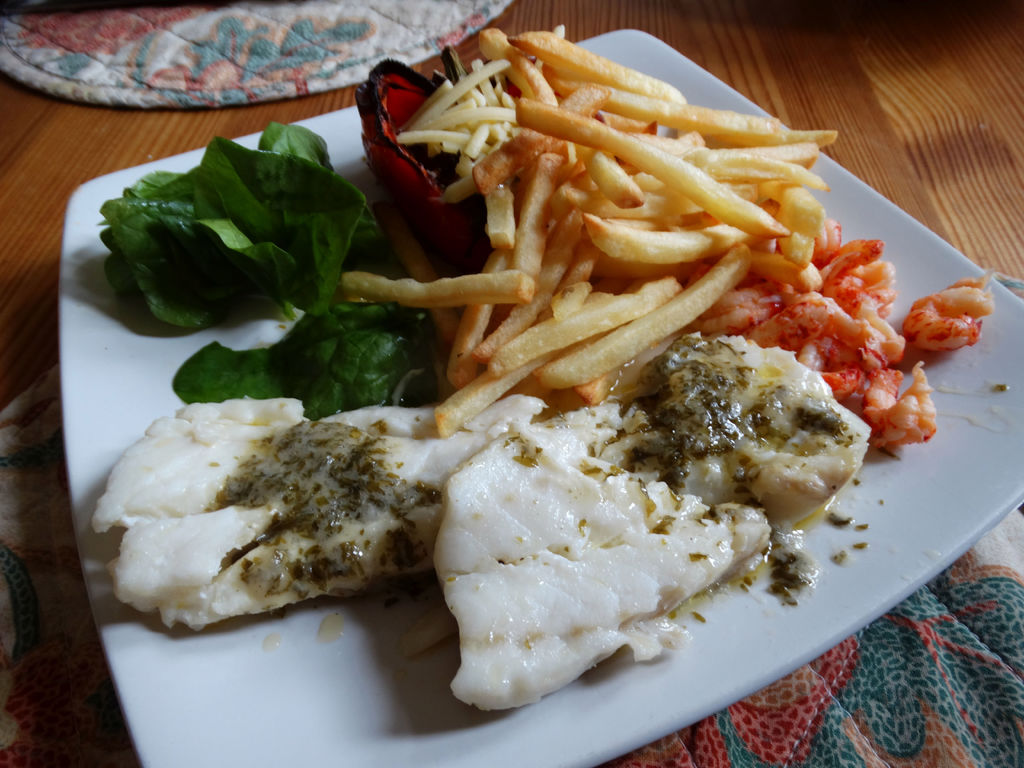French fries: (378, 30, 885, 487)
